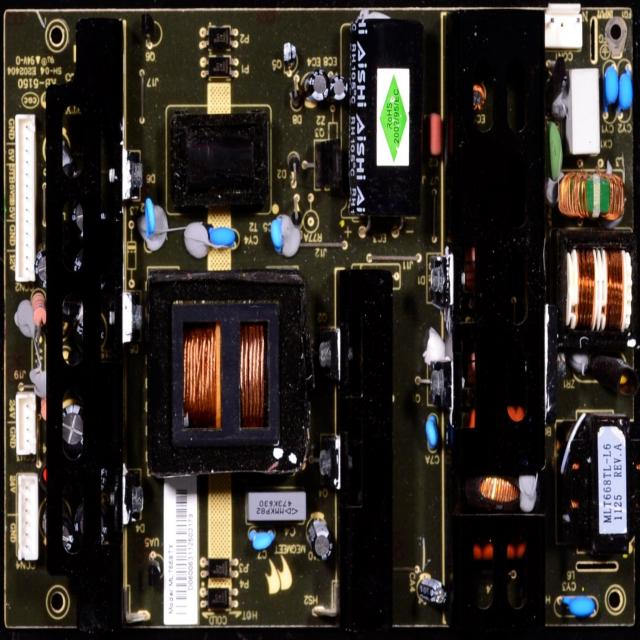Capacitor Jumper: (556, 590, 600, 624), (266, 210, 289, 266), (247, 526, 280, 563), (204, 221, 239, 253), (422, 406, 437, 464), (620, 65, 636, 119), (144, 195, 160, 246), (606, 59, 620, 112)
Connector: (16, 115, 35, 282), (19, 474, 39, 558), (15, 392, 36, 462)
Transistor: (301, 136, 345, 194), (140, 13, 161, 48)
